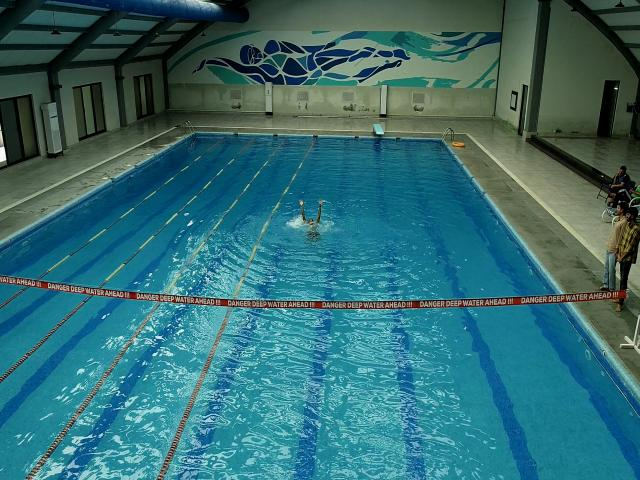drowning: (298, 198, 322, 240)
out of water: (618, 206, 640, 306), (608, 198, 626, 304), (610, 162, 630, 190)
